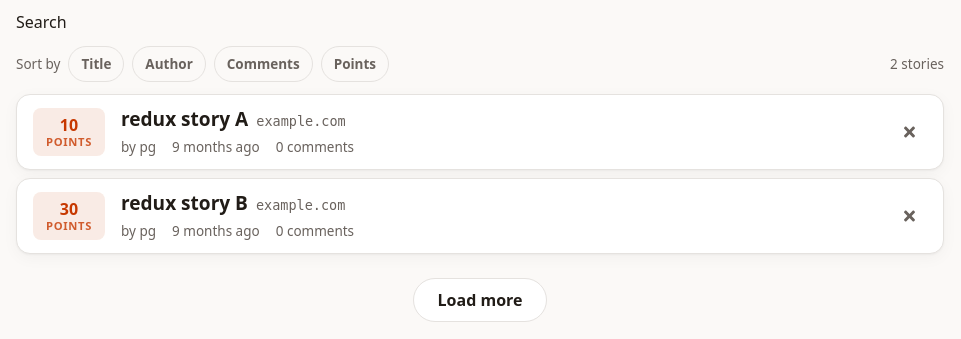
Test: App › dismisses a story
This screenshot has width=961, height=339.
Check: the link "redux story A" is shown, box [121,106,248,132]
Click the button named "Dismiss “redux story A”".
click(909, 132)  # box [887,110,931,154]
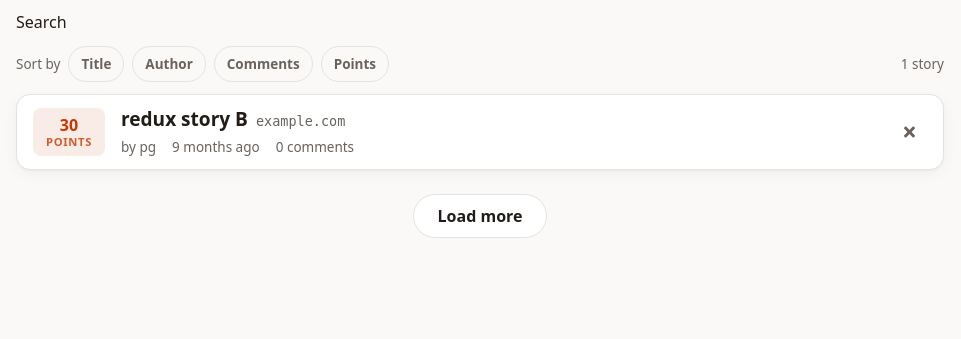
Check: the link "redux story A" is gone
Check: the text "1 story" is shown, box [901,54,944,74]
